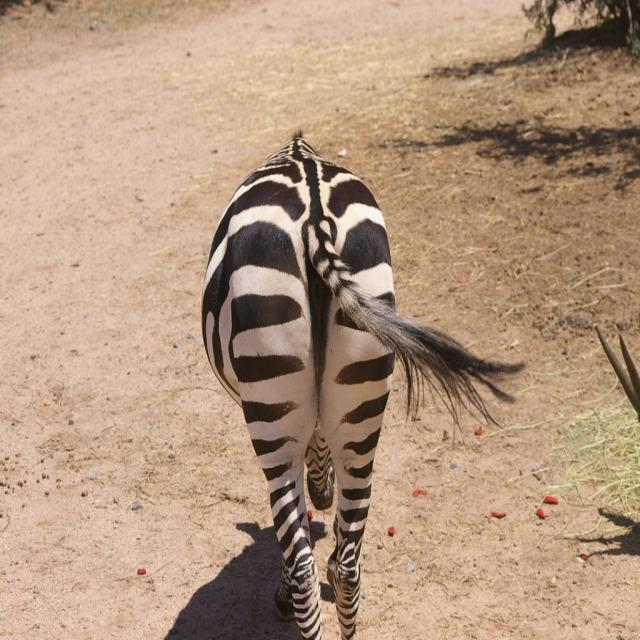zebra: (180, 119, 540, 613)
